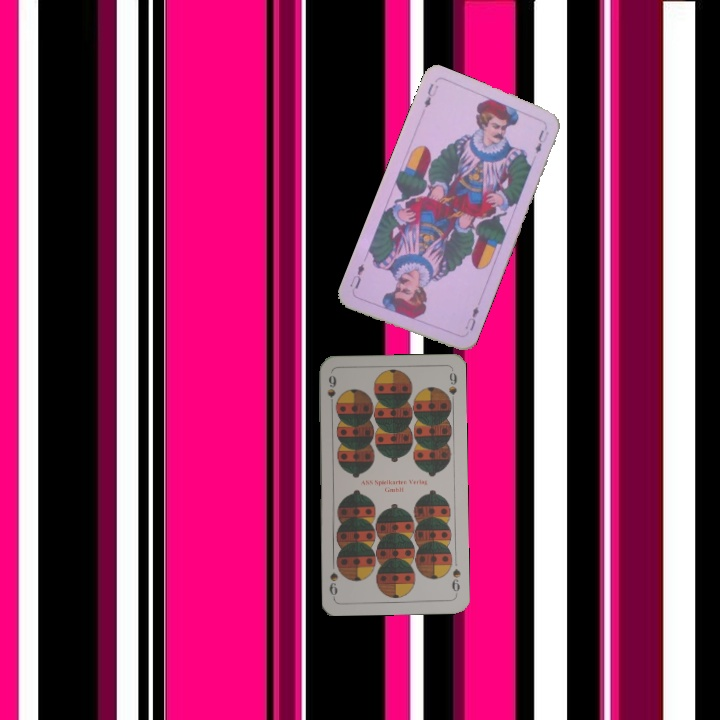EU: (461, 302, 482, 333), (420, 79, 441, 110)
S9: (323, 371, 341, 411), (448, 565, 463, 598)
